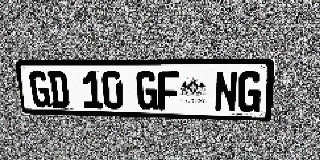0: (101, 71, 123, 109)
1: (81, 71, 103, 109)
D: (47, 71, 70, 108)
F: (158, 71, 179, 111)
G: (237, 71, 263, 113), (136, 71, 158, 110), (28, 71, 51, 108)
N: (214, 71, 238, 112)
